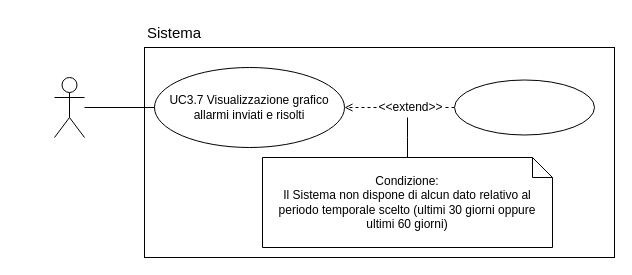
This 632x275 diagram has some shape labels left out. Here are the shapes that lost their labels. From the top down, the box of each, then its label:
(54, 76, 84, 138): Operatore Sanitario
(454, 79, 594, 135): UC7 Errore dati insufficienti
